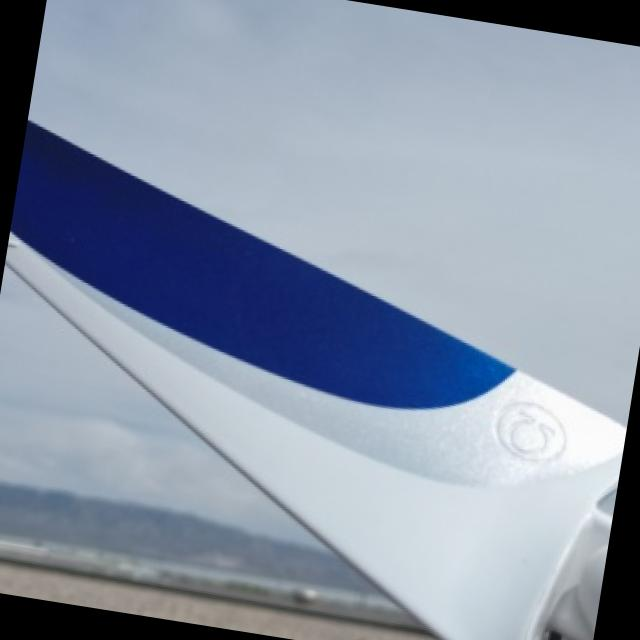healthy: (0, 123, 627, 640), (0, 356, 61, 481)
